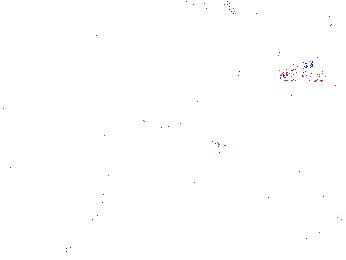X-ray fish: (125, 177, 165, 210)
glassfish: (136, 112, 238, 166), (65, 172, 118, 254)
red belly glassfish: (197, 63, 244, 82), (279, 63, 305, 82), (306, 62, 327, 82)
redtail glassfish: (249, 1, 303, 25), (183, 1, 239, 20)
